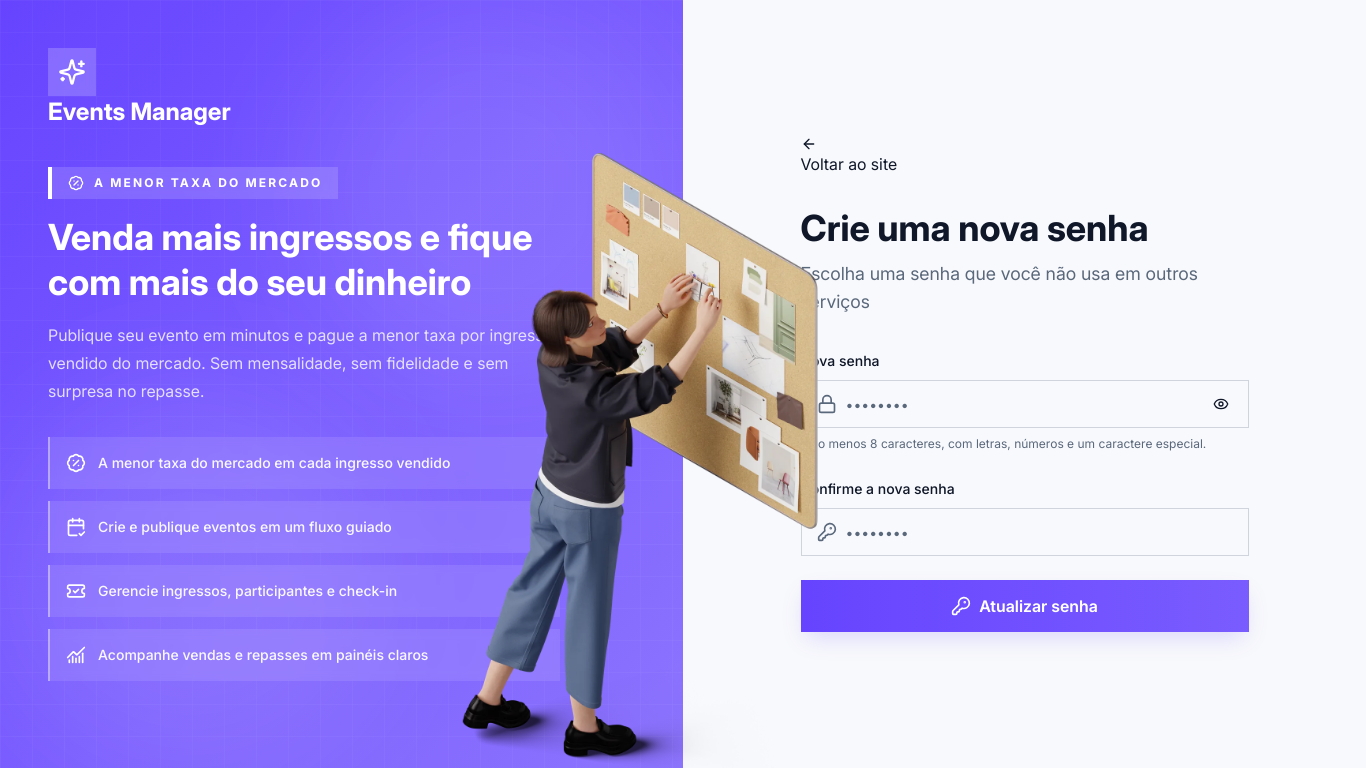
Test case: ResetPasswordPage › moves to the expired screen when the API no longer accepts the token
Type "Qsesbs2006#@!" into the password field labelled "Nova senha" at (1024, 404), box [800,380,1248,428]
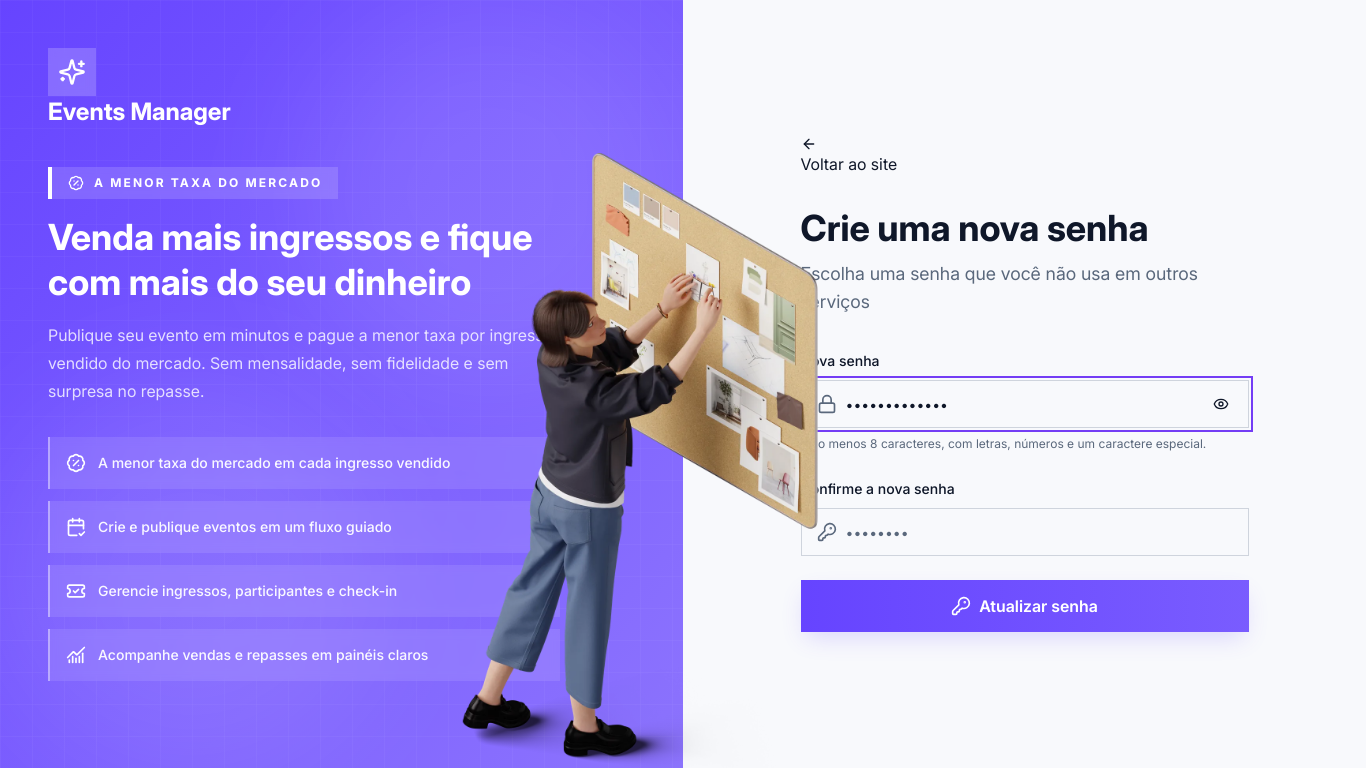
Type "Qsesbs2006#@!" into the password field labelled "Confirme a nova senha" at (1024, 532), box [800,508,1248,556]
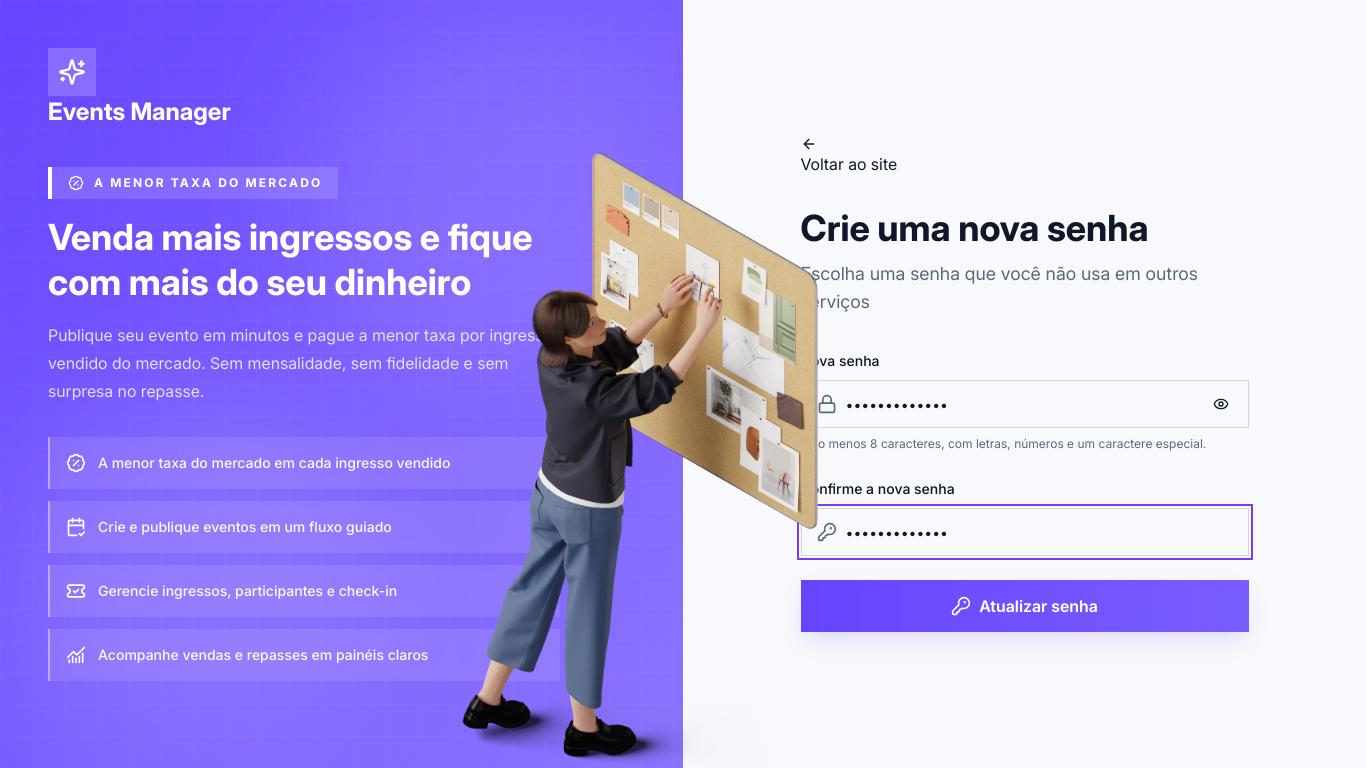
Click the button "Atualizar senha" at (1024, 606), box [800,580,1248,632]
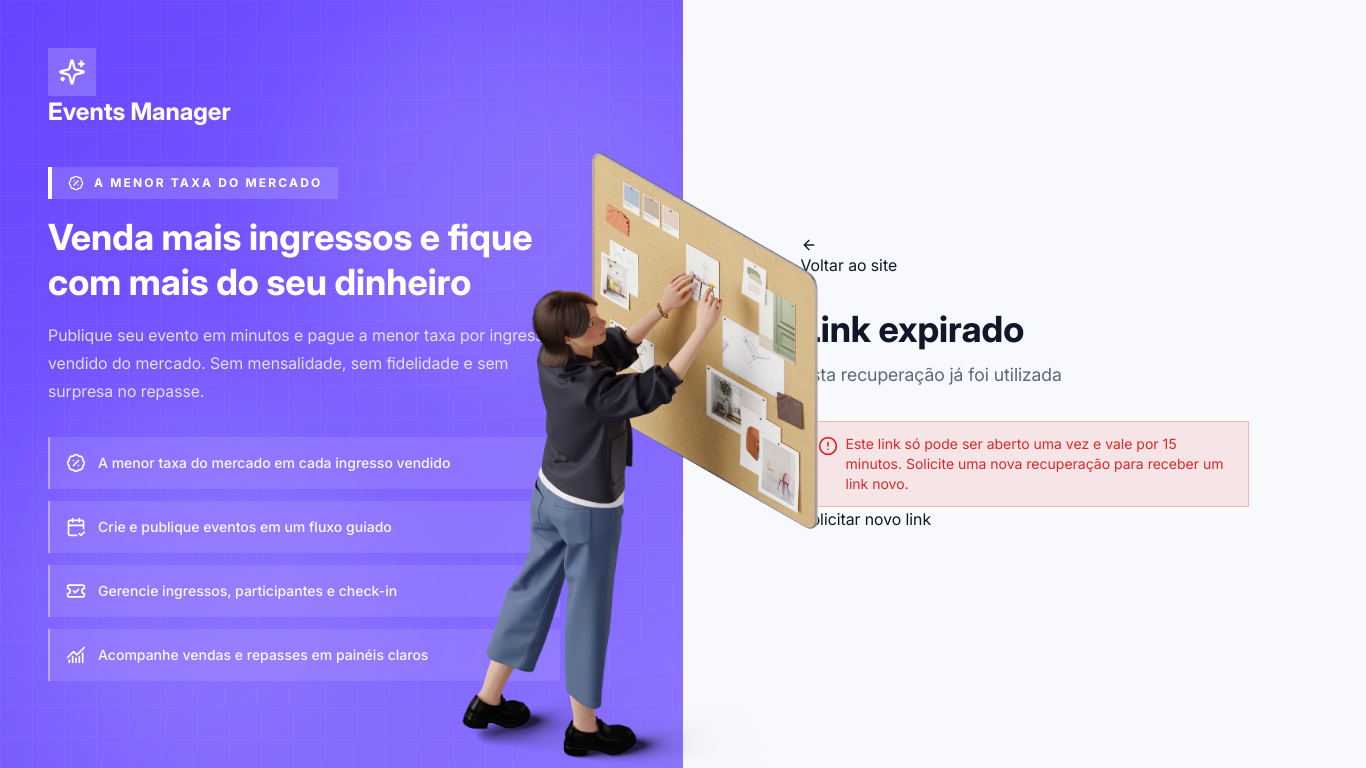
Expected: the heading "Link expirado" is shown, [800,307,1024,351]
